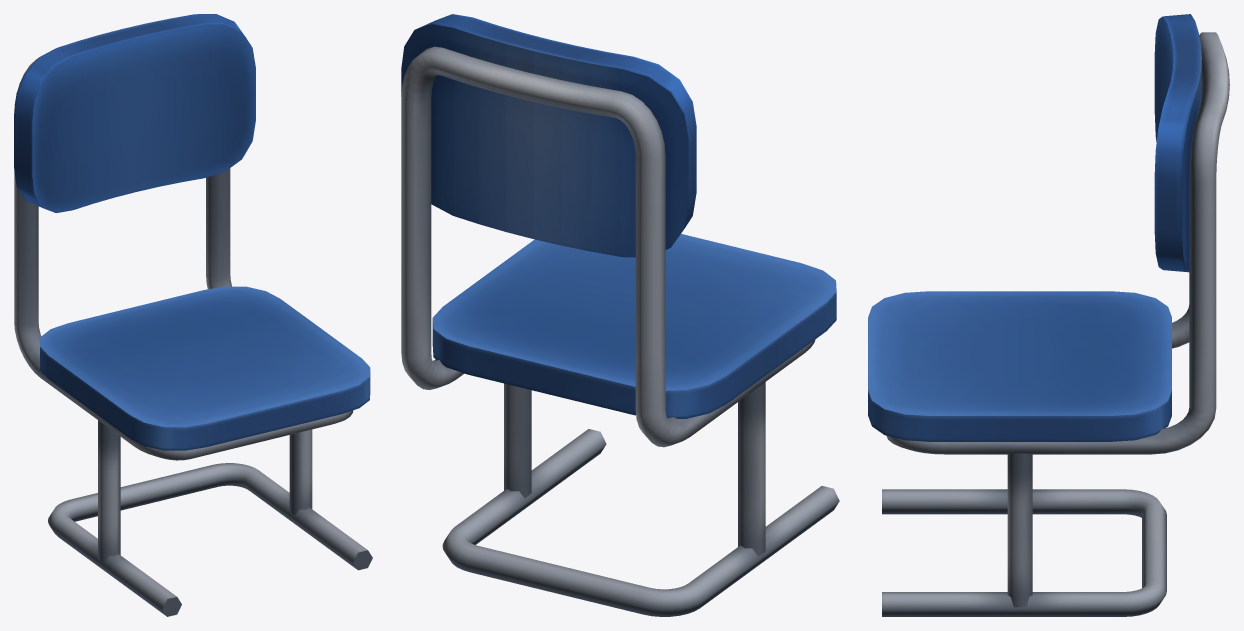
File: AnimeChibi-SchoolPack2-Chair.fbx
3 views of the same model, side by side, from view 1: azimuth 30°, elevation 25°; view 2: azimuth 150°, elevation 25°; view 3: azimuth 270°, elevation 25° (orthographic). The views are drawn at different scales.
Visible parts, largest first — view 1: chair; view 2: chair; view 3: chair.
Part boxes in pixels (x1,y1,x2,y2): chair: [14, 14, 372, 616]; chair: [401, 14, 839, 616]; chair: [868, 14, 1229, 616].
Size of the model in its own units: 9.57 by 17.78 by 11.55.
